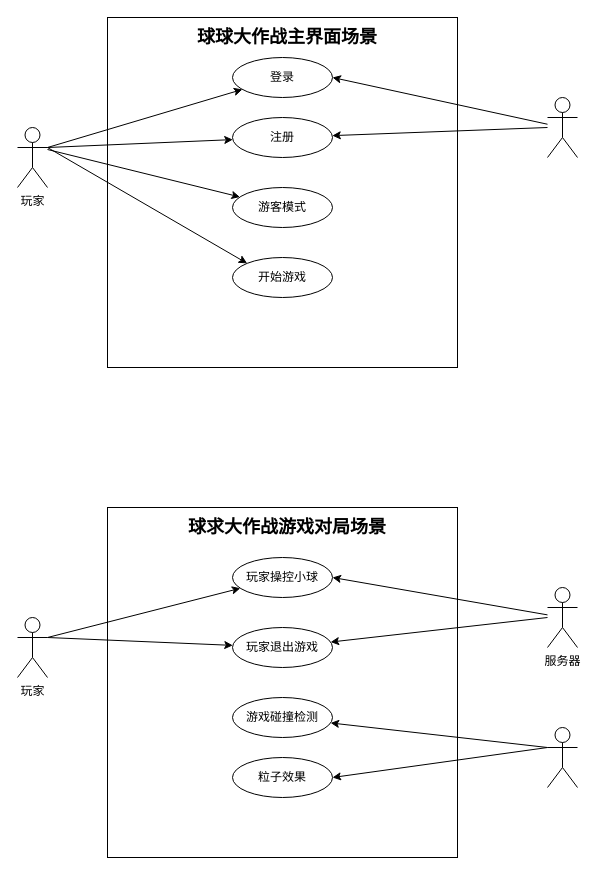
Image size: 604x875. Some labels were removed from this diagram. The shapes that lost their labels are listed below. From the top down, each one's box as (x1, y1, x2, y2) in pixels, then its label:
(546, 96, 578, 158): 数据库
(546, 726, 578, 788): 游戏引擎
